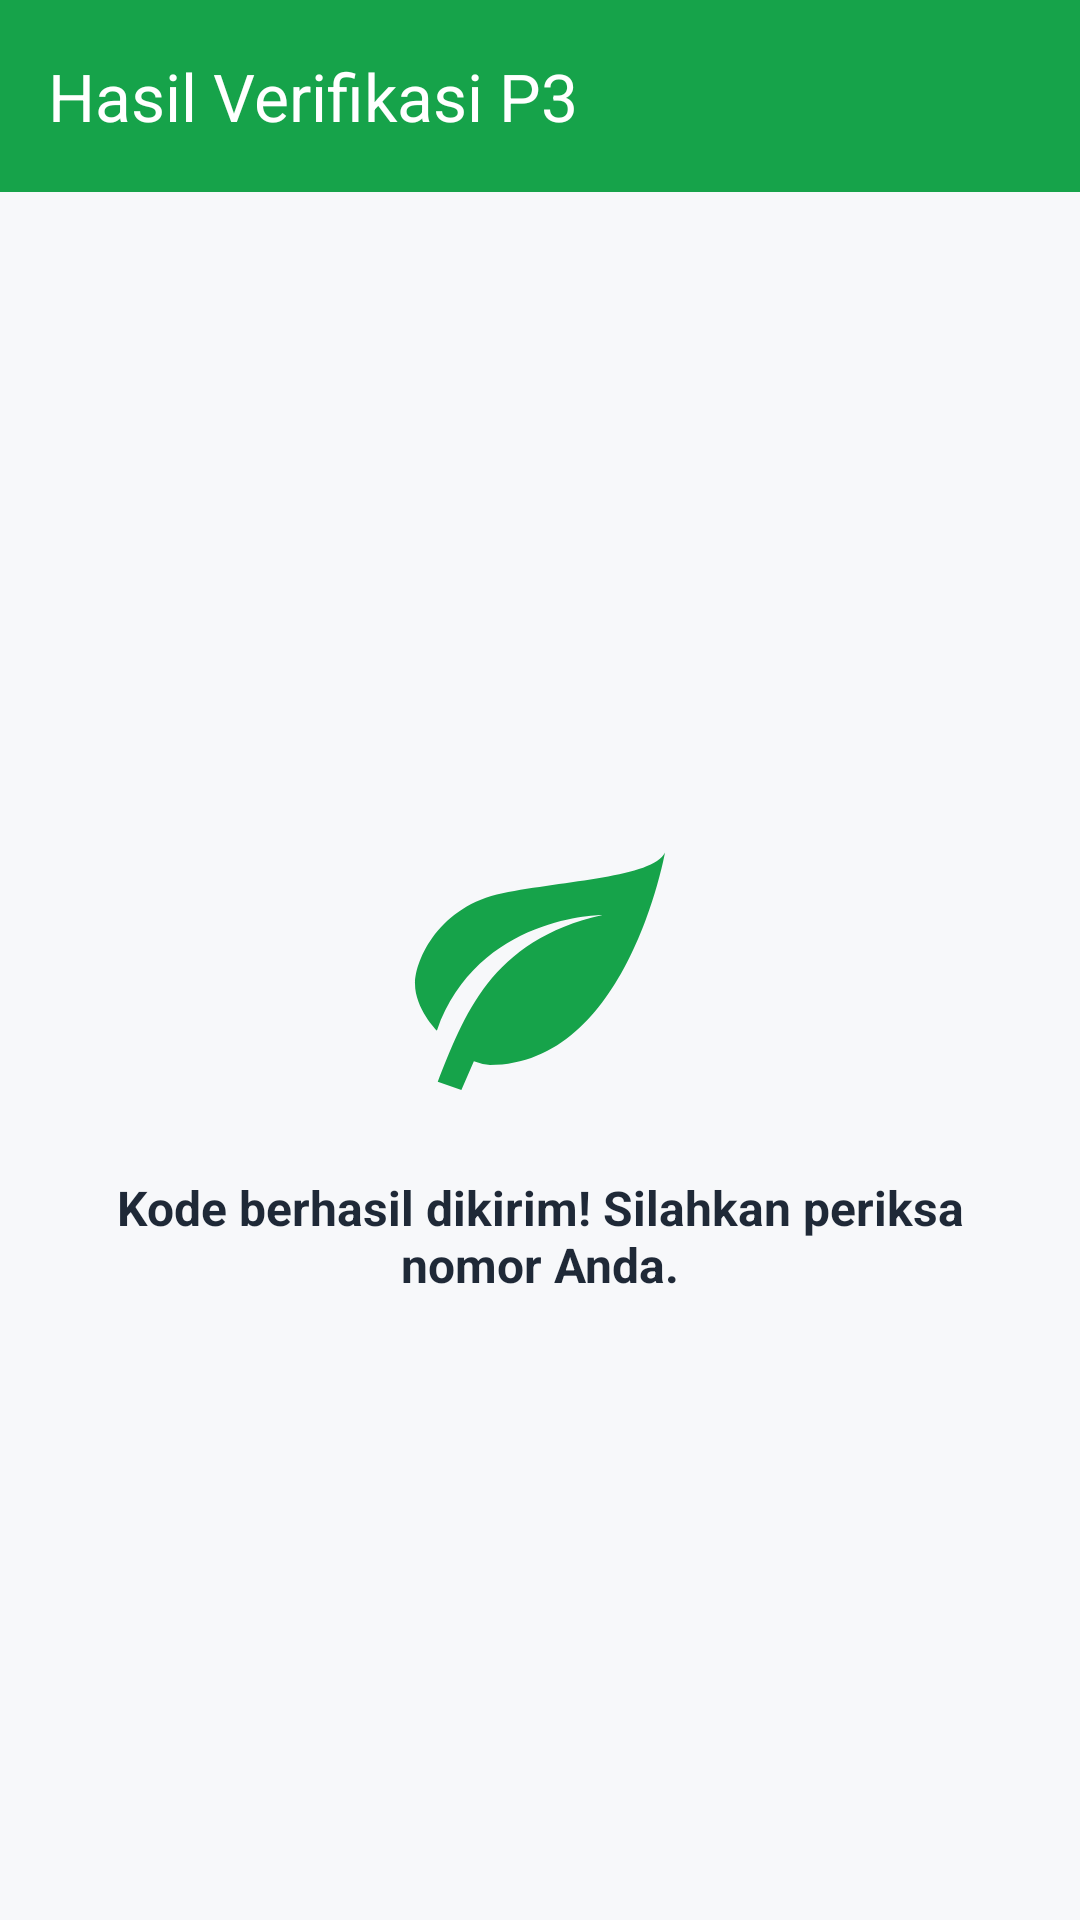

Icon bounding boxes for this 1080 x 1920 phone screenshot, format {"left": x1, "top": y1, "right": x2, "bottom": y2}:
eco: {"left": 415, "top": 853, "right": 665, "bottom": 1090}
